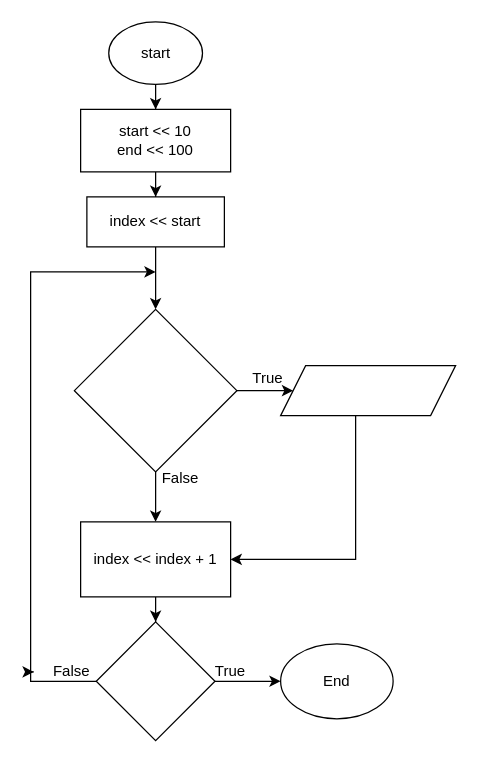
This 478x763 diagram has some shape labels left out. Each missing label, with the centre of its shape:
"index % 2 == 0" belongs at point 155,390.
"index <= end" belongs at point 155,681.
"print index" belongs at point 367,390.
